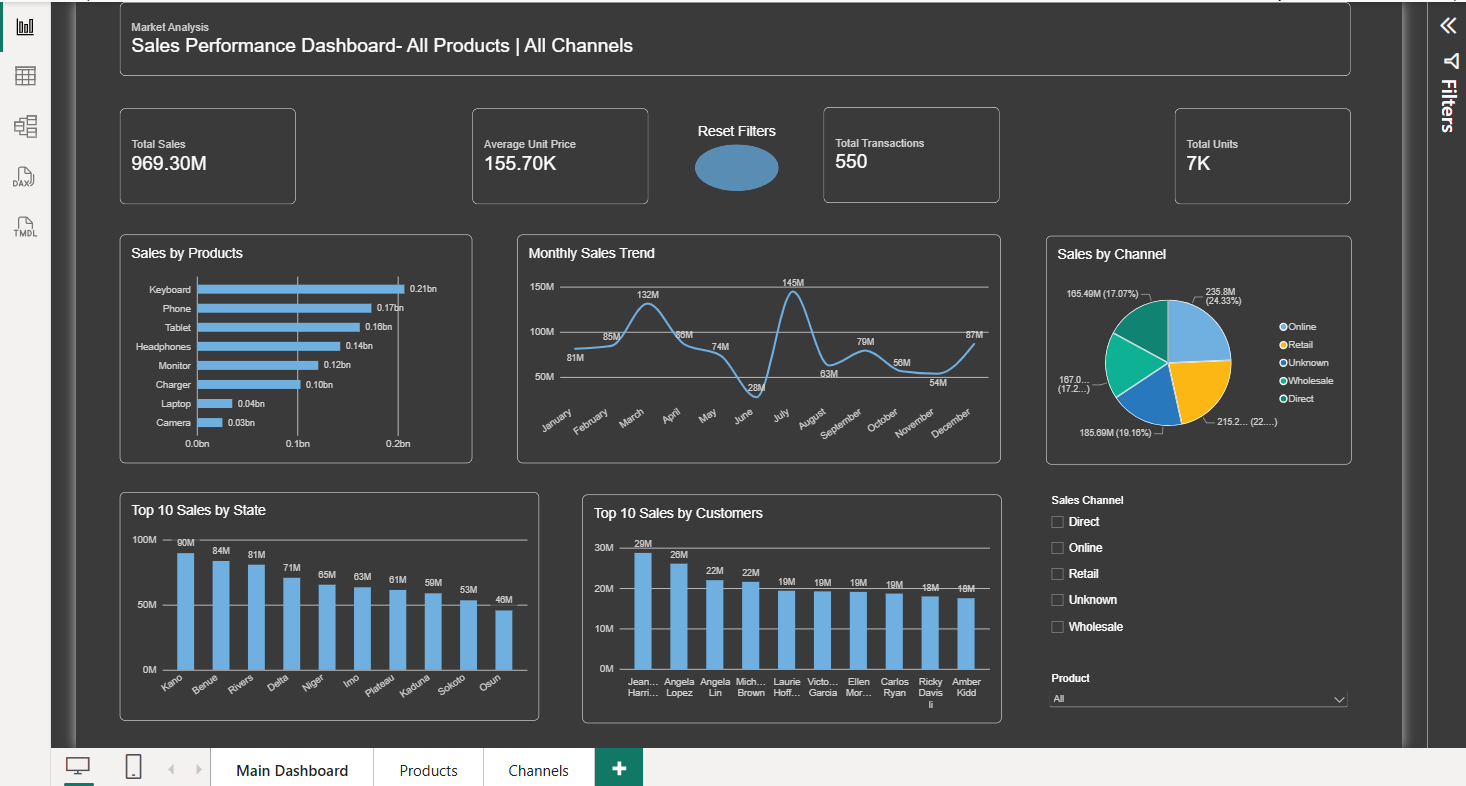

The dashboard page shown, as its layout file describes it:
{"tool":"powerbi","page":{"name":"Main Dashboard","canvas":[1920,1080],"ordinal":0},"visuals":[{"type":"cardVisual","fields":{"Data":["Fact_Sales.Total Sales"]},"box":[64.1,153.9,255.2,140],"z":0},{"type":"cardVisual","fields":{"Data":["Fact_Sales.Average Unit Price"]},"box":[573.1,154.4,255.2,140],"z":1000},{"type":"cardVisual","fields":{"Data":["Fact_Sales.Total Transactions"]},"box":[1082.1,152.3,255.2,140],"z":2000},{"type":"cardVisual","fields":{"Data":["Fact_Sales.Total Units"]},"box":[1591.1,154.4,255.2,140],"z":3000},{"type":"cardVisual","fields":{"Data":["Fact_Sales.Dynamic Title"]},"box":[63.8,0,1782.5,107],"z":4000},{"type":"lineChart","title":"Monthly Sales Trend","fields":{"Category":["DimDate.Month"],"Y":["Fact_Sales.Total Sales"]},"box":[639.1,336.5,699.8,331.4],"z":5000},{"type":"pieChart","title":"Sales by Channel","fields":{"Category":["DimChannel.Sales Channel"],"Y":["Fact_Sales.Total Sales"]},"box":[1403.8,337.6,442.5,331.4],"z":6000},{"type":"lineStackedColumnComboChart","title":"Top 10 Sales by State","fields":{"Category":["DimState.State"],"Y":["Fact_Sales.Total Sales"]},"box":[63.8,710.1,607.2,331.4],"z":7000},{"type":"clusteredBarChart","title":"Sales by Products","fields":{"Category":["DimProduct.Product"],"Y":["Fact_Sales.Total Sales"]},"box":[63.8,336.5,510.5,331.4],"z":8000},{"type":"clusteredColumnChart","title":"Top 10 Sales by Customers","fields":{"Category":["DimCustomer.Customer Name"],"Y":["Fact_Sales.Total Sales"]},"box":[733.8,712.2,607.2,331.4],"z":9000},{"type":"slicer","fields":{"Values":["DimChannel.Sales Channel"]},"box":[1403.8,712.2,442.5,236.7],"z":10000},{"type":"slicer","fields":{"Values":["DimProduct.Product"]},"box":[1403.8,969.5,442.5,74.1],"z":11000},{"type":"actionButton","title":"Reset Filters","box":[895.9,175.3,121.9,98.4],"z":12000}]}

Visuals, with their boxes on the page's 1920x1080 design canvas (x1, y1, x2, y2). These are canvas units, not pixel positions in the 1466x786 screenshot, which may show the page scaled, cropped or inside an application window:
cardVisual - Fact_Sales.Total Sales: x1=64 y1=154 x2=319 y2=294
cardVisual - Fact_Sales.Average Unit Price: x1=573 y1=154 x2=828 y2=294
cardVisual - Fact_Sales.Total Transactions: x1=1082 y1=152 x2=1337 y2=292
cardVisual - Fact_Sales.Total Units: x1=1591 y1=154 x2=1846 y2=294
cardVisual - Fact_Sales.Dynamic Title: x1=64 y1=0 x2=1846 y2=107
"Monthly Sales Trend" lineChart: x1=639 y1=336 x2=1339 y2=668
"Sales by Channel" pieChart: x1=1404 y1=338 x2=1846 y2=669
"Top 10 Sales by State" lineStackedColumnComboChart: x1=64 y1=710 x2=671 y2=1042
"Sales by Products" clusteredBarChart: x1=64 y1=336 x2=574 y2=668
"Top 10 Sales by Customers" clusteredColumnChart: x1=734 y1=712 x2=1341 y2=1044
slicer - DimChannel.Sales Channel: x1=1404 y1=712 x2=1846 y2=949
slicer - DimProduct.Product: x1=1404 y1=970 x2=1846 y2=1044
"Reset Filters" actionButton: x1=896 y1=175 x2=1018 y2=274
